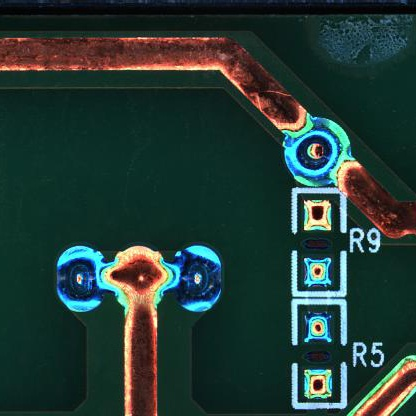spot: (283, 118, 352, 187), (55, 244, 105, 313), (173, 243, 220, 312)
